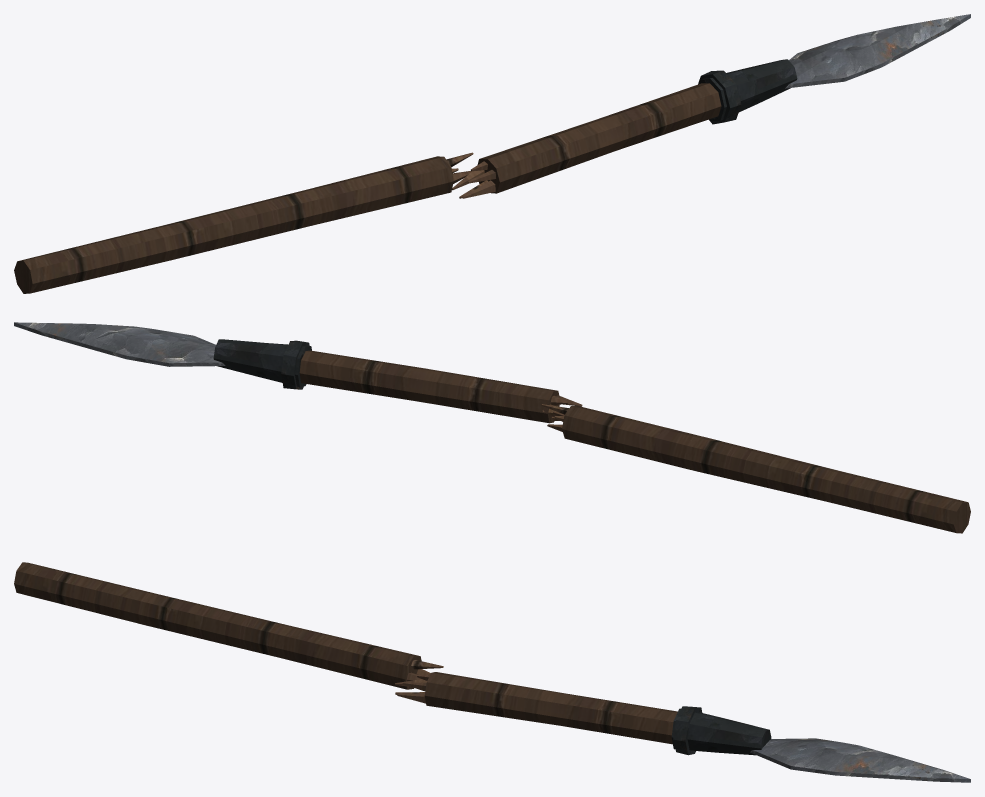
The model's file is junk_spear_broken.glb.
3 views of the same model, one above another, from view 1: azimuth 30°, elevation 25°; view 2: azimuth 150°, elevation 25°; view 3: azimuth 330°, elevation 25° (orthographic). The views are drawn at different scales.
Parts seen in each view (by area): view 1: model; view 2: model; view 3: model.
Part boxes in pixels (<box>): model: <box>14,14,970,293</box>; model: <box>14,322,970,533</box>; model: <box>14,562,970,782</box>.
Bounding box in the file's own units: 1.59 × 0.0775 × 0.1809.
Materials: 4 (4 with a texture image).
